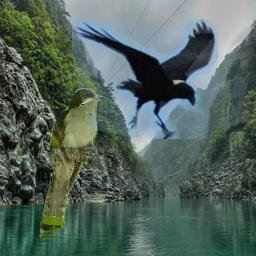Crow: (72, 19, 218, 139)
Cuckoo: (39, 88, 108, 241)
